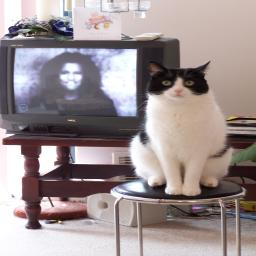catnose: (174, 88, 182, 94)
